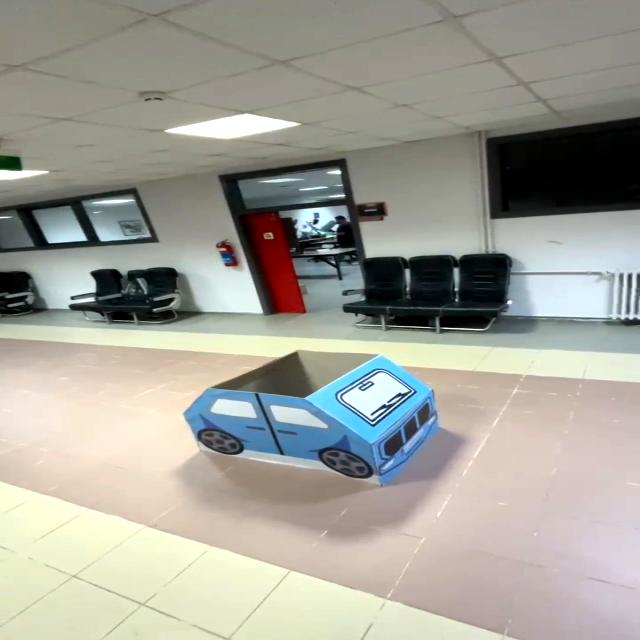blue_car: (142, 343, 491, 501)
